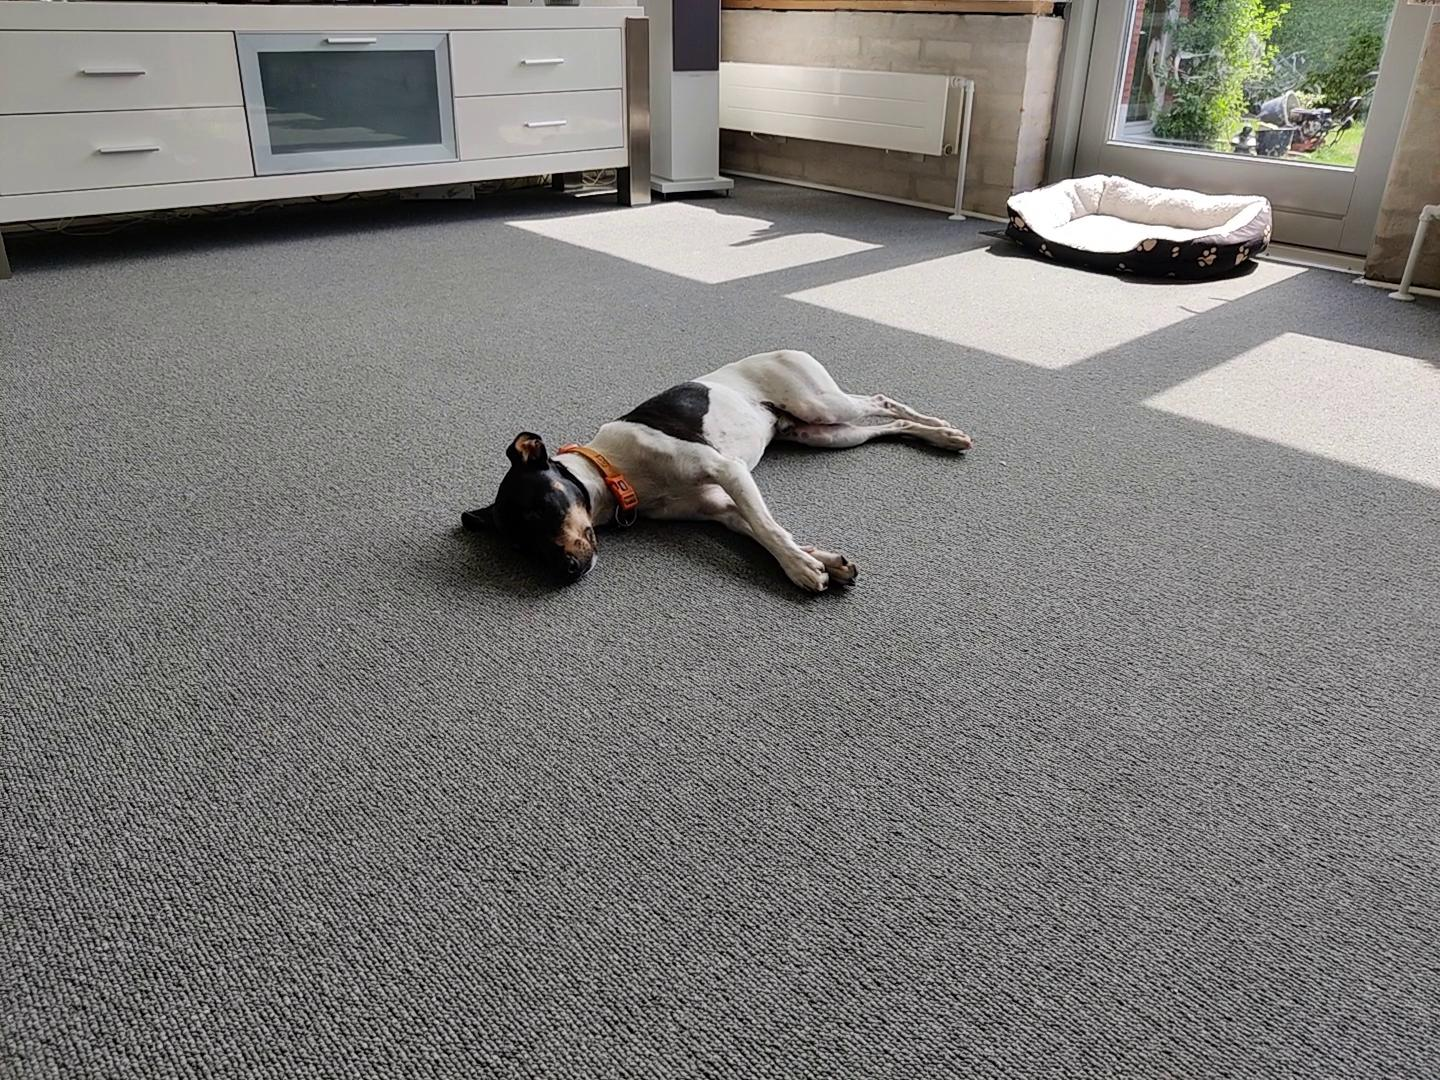Dog: (448, 341, 976, 608)
